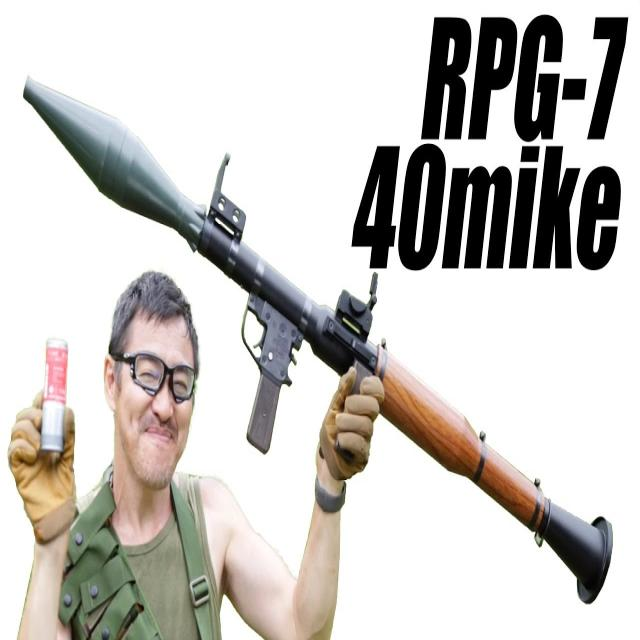bazooka: (3, 28, 637, 639)
